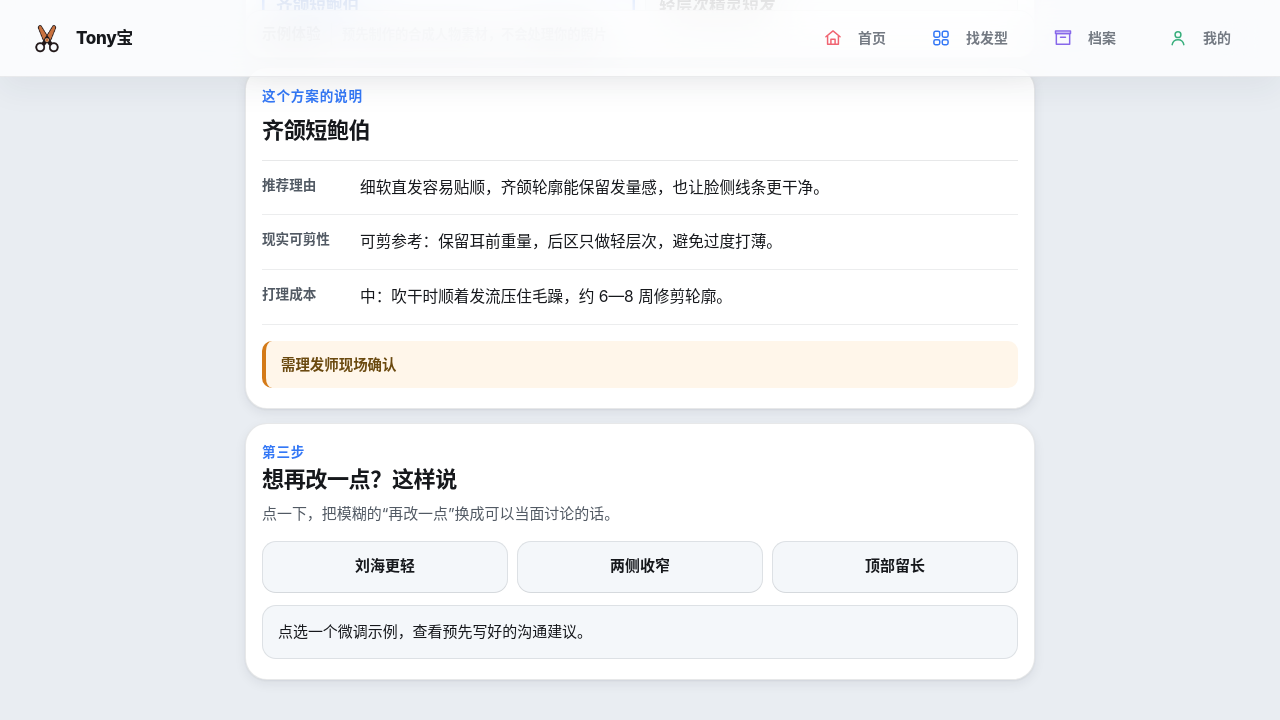
Scenario: app shell › offers three prewritten micro-adjustments through an aria-live status
(page scrolled)
Click the button with aria-label "微调示例：刘海更轻": (385, 567) [262, 541, 508, 593]
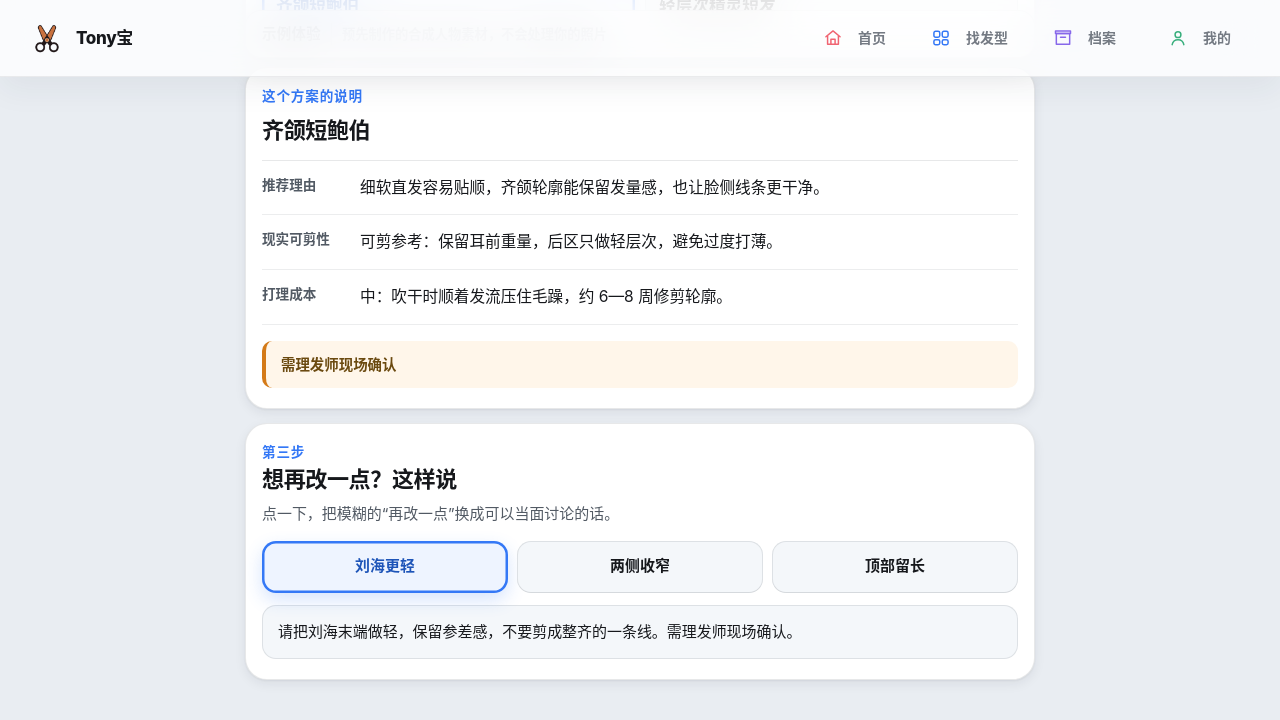
Check: the message reads "请把刘海末端做轻，保留参差感，不要剪成整齐的一条线。需理发师现场确认。", box [278, 623, 801, 641]
